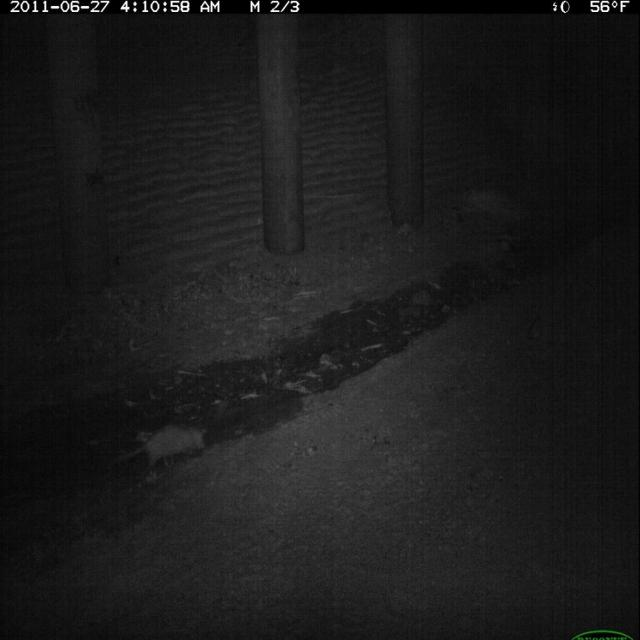opossum: (110, 416, 212, 483)
